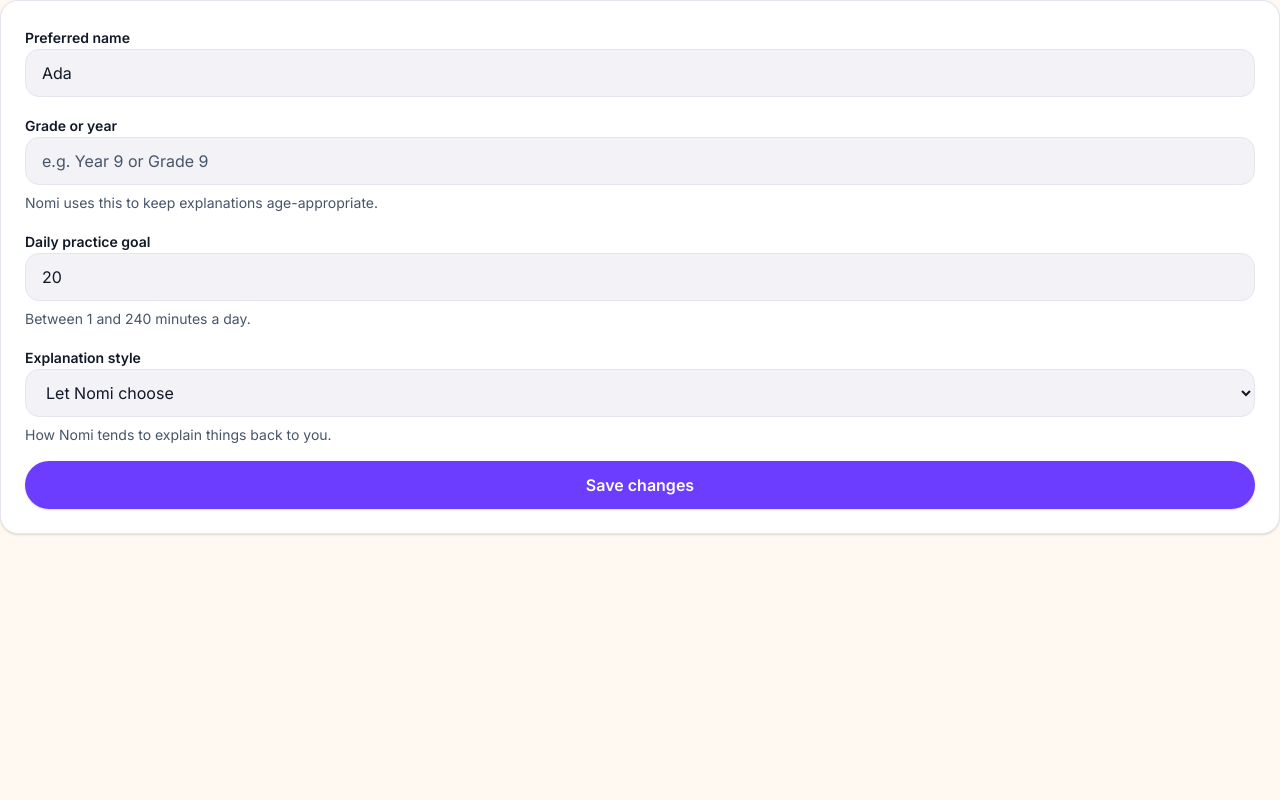
Test case: ProfilePreferencesForm › shows a saved confirmation after a successful save
Click the button "Save changes". click: (640, 485)
box: top-left (25, 461), bottom-right (1255, 509)
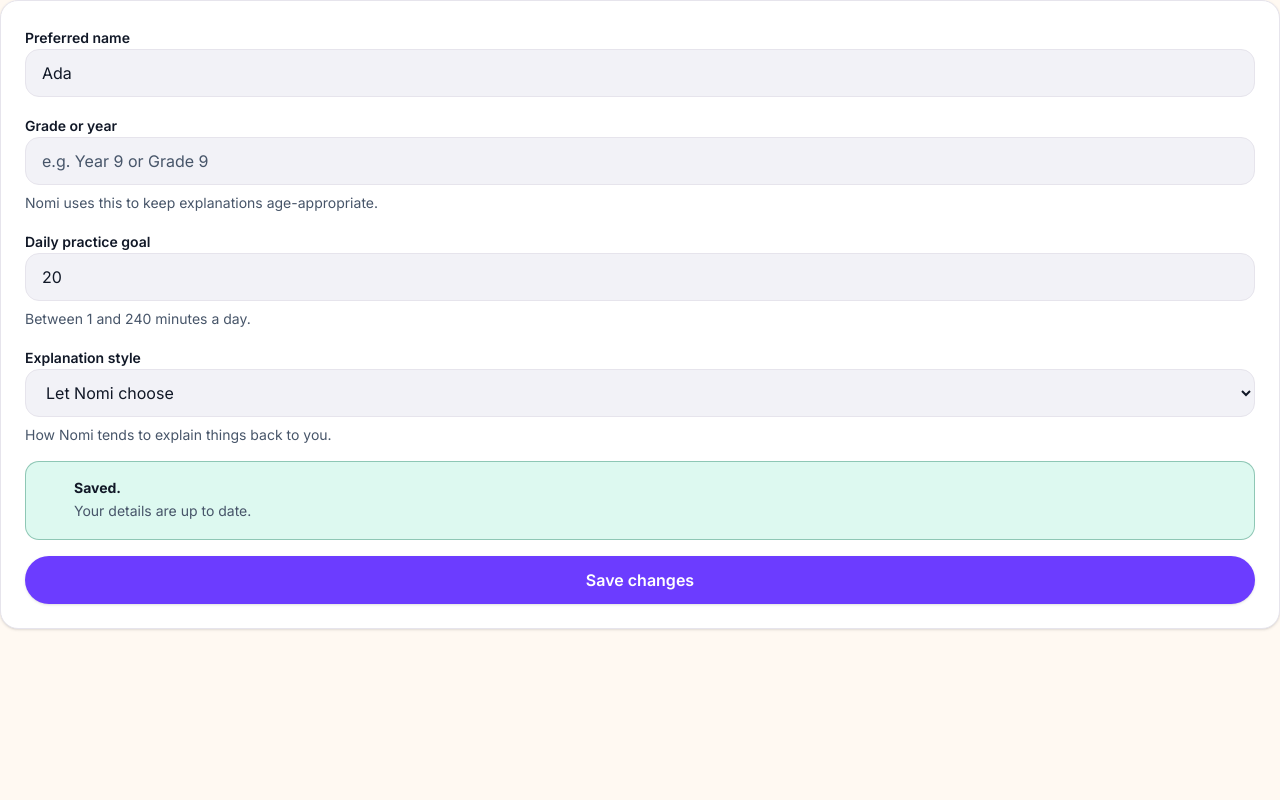
Check: the text "Saved." is shown, box top-left (74, 479), bottom-right (121, 496)
Check: the text "Your details are up to date." is shown, box top-left (74, 502), bottom-right (251, 519)
